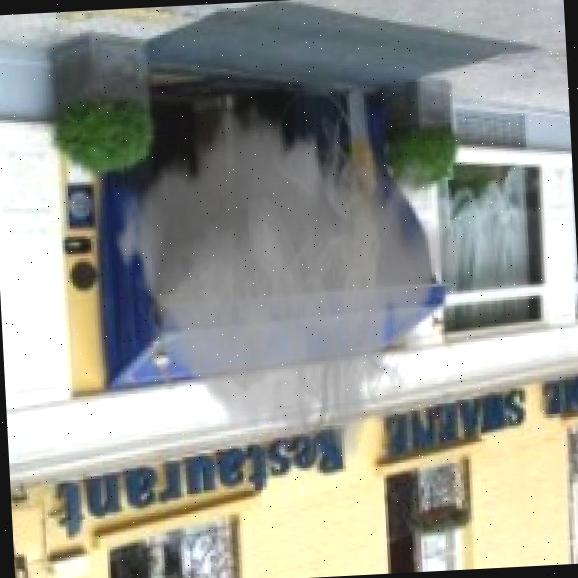smoke: (105, 62, 486, 485)
